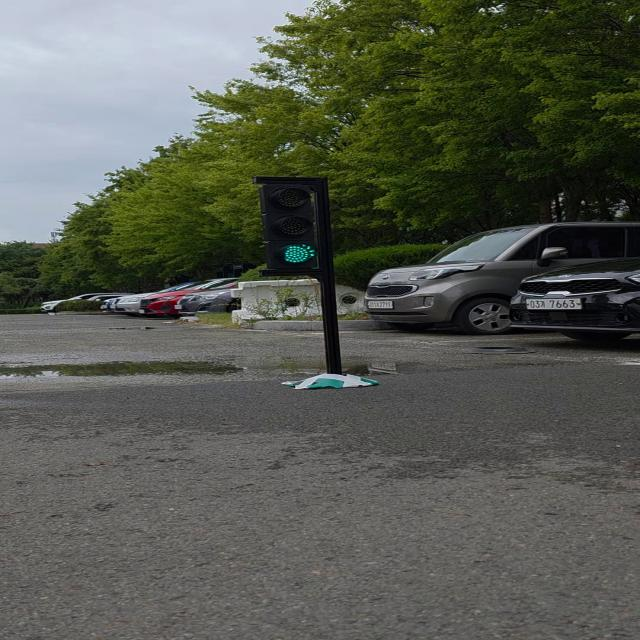green: (261, 176, 330, 276)
